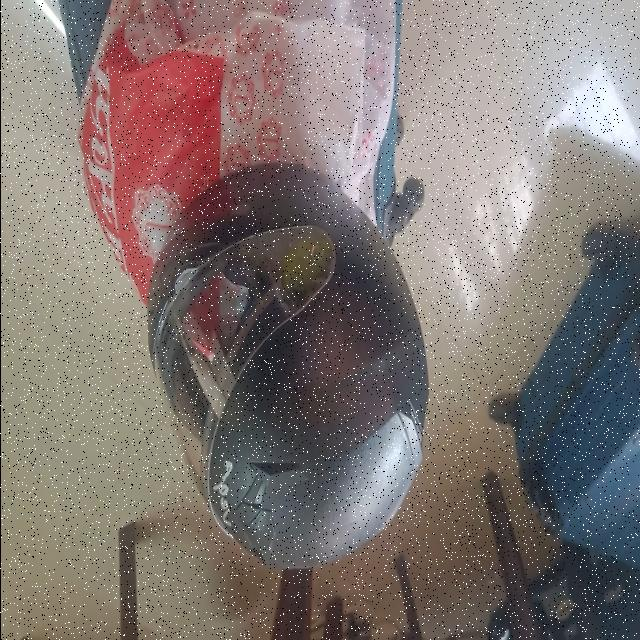Helmet: (144, 157, 427, 571)
